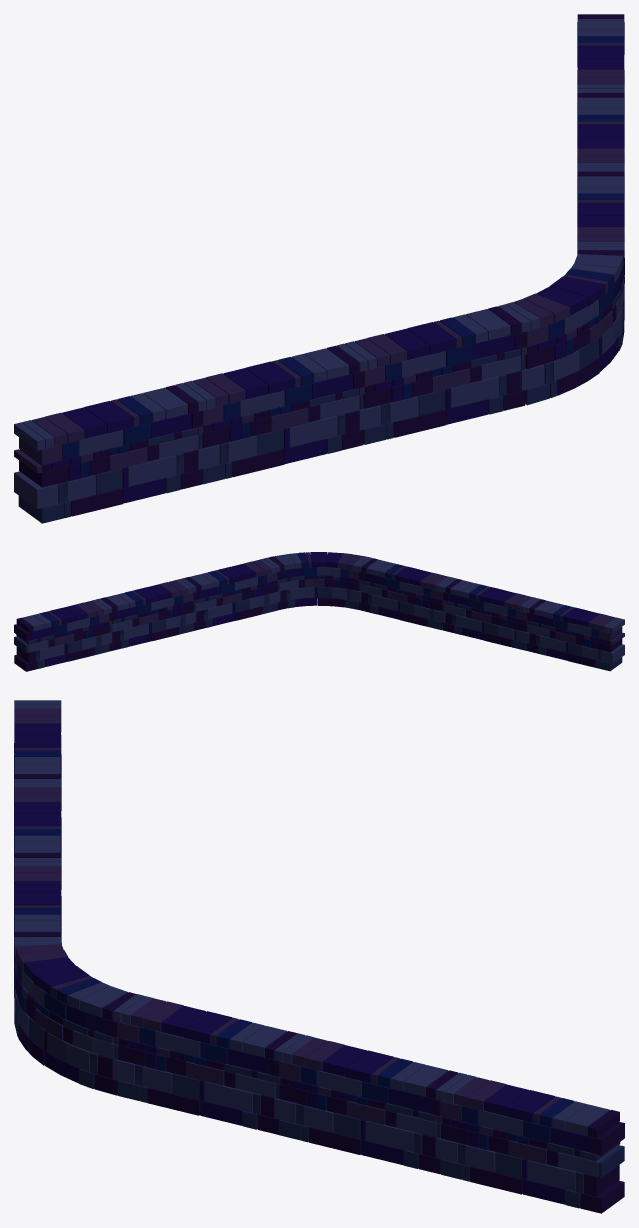
Rendered from WallBlue2.fbx.
3 views of the same model, one above another, from view 1: azimuth 30°, elevation 25°; view 2: azimuth 150°, elevation 25°; view 3: azimuth 270°, elevation 25° (orthographic). The views are drawn at different scales.
Visible parts, largest first — view 1: WallBlue2; view 2: WallBlue2; view 3: WallBlue2.
Part boxes in pixels (<box>): WallBlue2: <box>14,14,624,523</box>; WallBlue2: <box>14,552,624,671</box>; WallBlue2: <box>14,700,624,1213</box>.
Bounding box in the file's own units: 109 × 9.9 × 65.55.
Materials: 1 (1 with a texture image).
